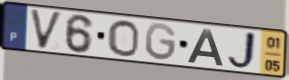6: (64, 13, 95, 55)
A: (185, 27, 225, 67)
G: (143, 22, 178, 63)
J: (225, 30, 258, 72)
O: (106, 19, 141, 58)
V: (28, 7, 65, 51)
